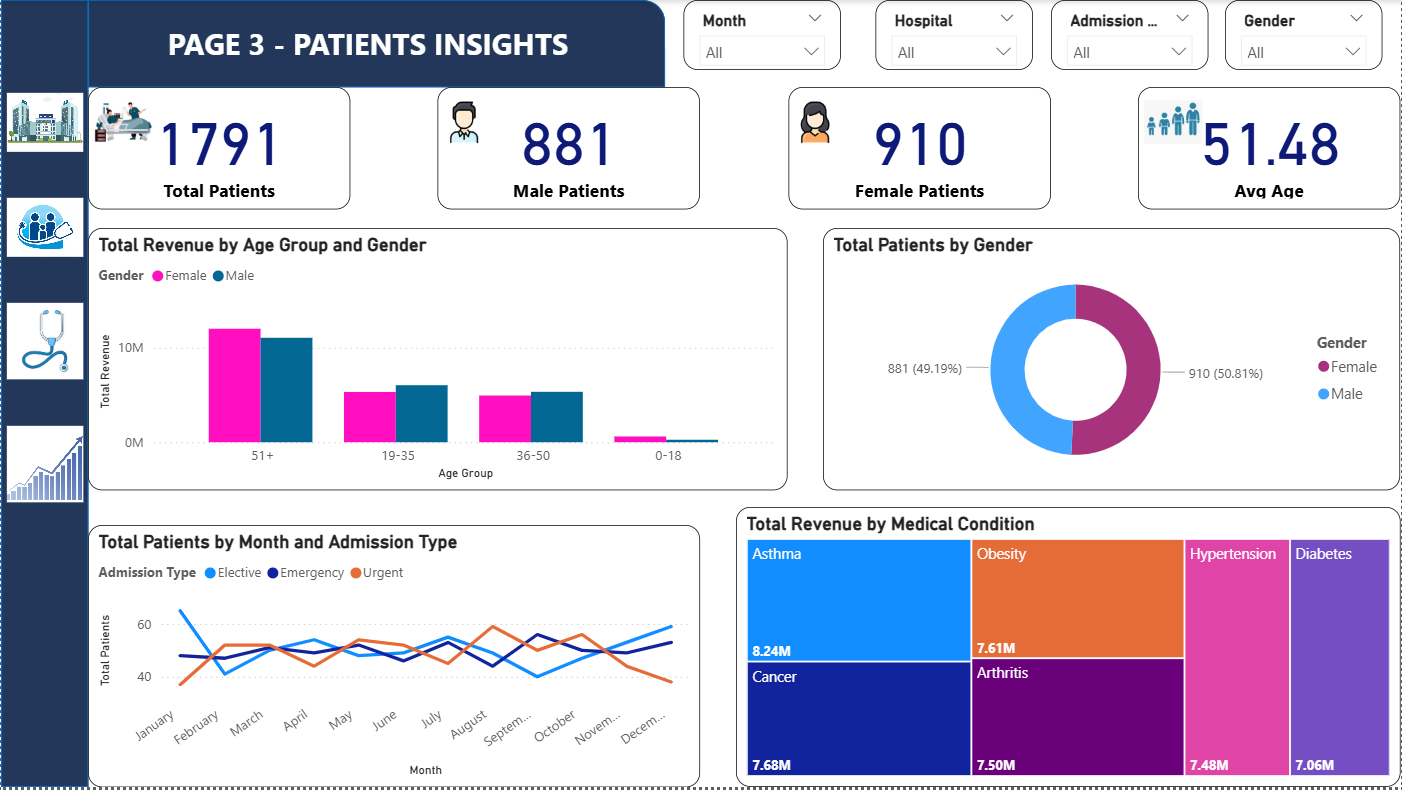

The page's visual inventory and layout, read from the dashboard file:
{"tool":"powerbi","page":{"name":"Page 3","canvas":[1280,720],"ordinal":2},"visuals":[{"type":"shape","box":[0,0,80,720],"z":0},{"type":"shape","box":[80,0,528,80],"z":1000},{"type":"card","fields":{"Values":["healthcare_dataset.Total Patients"]},"box":[80,80,240,112],"z":2000},{"type":"card","fields":{"Values":["healthcare_dataset.Female Patients"]},"box":[720,80,240,112],"z":3000},{"type":"card","fields":{"Values":["healthcare_dataset.Avg Age"]},"box":[1040,80,240,112],"z":4000},{"type":"card","fields":{"Values":["healthcare_dataset.Male Patients"]},"box":[400,80,240,112],"z":5000},{"type":"clusteredColumnChart","fields":{"Y":["healthcare_dataset.Total Revenue"],"Series":["healthcare_dataset.Gender"],"Category":["healthcare_dataset.Age Group"]},"box":[80,208,640,240],"z":6000},{"type":"donutChart","fields":{"Category":["healthcare_dataset.Gender"],"Y":["healthcare_dataset.Total Patients"]},"box":[752,208,528,240],"z":7000},{"type":"lineChart","fields":{"Category":["healthcare_dataset.Month"],"Y":["healthcare_dataset.Total Patients"],"Series":["healthcare_dataset.Admission Type"]},"box":[80,480,560,240],"z":8000},{"type":"treemap","fields":{"Group":["healthcare_dataset.Medical Condition"],"Values":["healthcare_dataset.Total Revenue"]},"box":[672,464,608,256],"z":9000},{"type":"slicer","fields":{"Values":["healthcare_dataset.Month"]},"box":[624,0,144,64],"z":10000},{"type":"slicer","fields":{"Values":["healthcare_dataset.Hospital"]},"box":[800,0,144,64],"z":11000},{"type":"slicer","fields":{"Values":["healthcare_dataset.Admission Type"]},"box":[960,0,144,64],"z":12000},{"type":"slicer","fields":{"Values":["healthcare_dataset.Gender"]},"box":[1120,0,144,64],"z":13000},{"type":"textbox","box":[96,16,496,48],"z":14000},{"type":"image","box":[0,80,80,64],"z":14001},{"type":"image","box":[0,176,80,64],"z":14002},{"type":"image","box":[0,272,80,80],"z":14003},{"type":"image","box":[0,384,80,80],"z":14004},{"type":"image","box":[720,80,48,64],"z":14005},{"type":"image","box":[400,80,48,64],"z":14006},{"type":"image","box":[80,80,64,64],"z":14007},{"type":"image","box":[1040,80,64,64],"z":14008}]}

Visuals, with their boxes in screenshot pixels (x1, y1, x2, y2), scaled from the page's 1280x720 canvas onto the 1402x790 screenshot:
shape: box(0, 0, 88, 789)
shape: box(88, 0, 666, 88)
card - healthcare_dataset.Total Patients: box(88, 88, 350, 211)
card - healthcare_dataset.Female Patients: box(789, 88, 1052, 211)
card - healthcare_dataset.Avg Age: box(1139, 88, 1401, 211)
card - healthcare_dataset.Male Patients: box(438, 88, 701, 211)
clusteredColumnChart - healthcare_dataset.Total Revenue x healthcare_dataset.Gender: box(88, 228, 789, 492)
donutChart - healthcare_dataset.Gender x healthcare_dataset.Total Patients: box(824, 228, 1401, 492)
lineChart - healthcare_dataset.Month x healthcare_dataset.Total Patients: box(88, 527, 701, 789)
treemap - healthcare_dataset.Medical Condition x healthcare_dataset.Total Revenue: box(736, 509, 1401, 789)
slicer - healthcare_dataset.Month: box(683, 0, 841, 70)
slicer - healthcare_dataset.Hospital: box(876, 0, 1034, 70)
slicer - healthcare_dataset.Admission Type: box(1052, 0, 1209, 70)
slicer - healthcare_dataset.Gender: box(1227, 0, 1384, 70)
textbox: box(105, 18, 648, 70)
image: box(0, 88, 88, 158)
image: box(0, 193, 88, 263)
image: box(0, 298, 88, 386)
image: box(0, 421, 88, 509)
image: box(789, 88, 841, 158)
image: box(438, 88, 491, 158)
image: box(88, 88, 158, 158)
image: box(1139, 88, 1209, 158)
